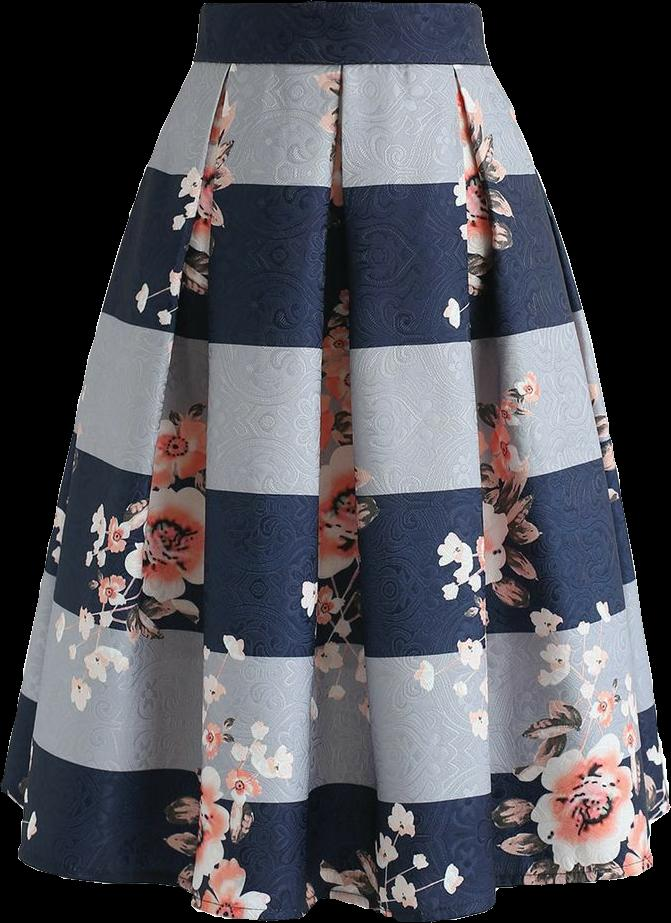Hemline: (0, 778, 670, 922)
Waistline: (188, 54, 497, 72), (196, 0, 485, 13)
